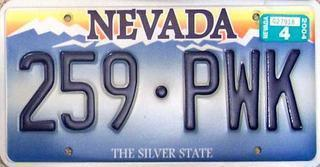placa de veiculo: (4, 1, 311, 162)
